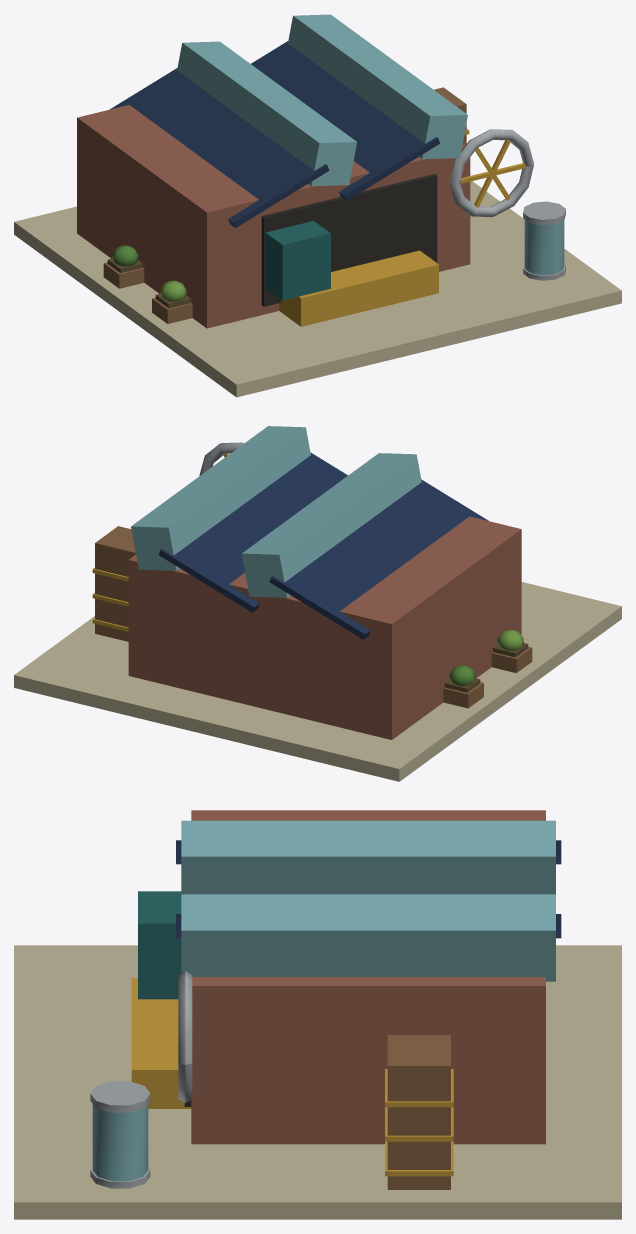
Rendered from b06-maker-workshop-v2-lod0.glb.
The picture shows the model from 3 angles, top to bottom: view 1: azimuth 30°, elevation 25°; view 2: azimuth 150°, elevation 25°; view 3: azimuth 270°, elevation 25°; orthographic projection. The views are drawn at different scales.
Parts seen in each view (by area): view 1: MESH_B06_MAKER_WORKSHOP; view 2: MESH_B06_MAKER_WORKSHOP; view 3: MESH_B06_MAKER_WORKSHOP.
Part boxes in pixels (<box>): MESH_B06_MAKER_WORKSHOP: <box>14,14,621,397</box>; MESH_B06_MAKER_WORKSHOP: <box>14,426,621,781</box>; MESH_B06_MAKER_WORKSHOP: <box>14,810,621,1219</box>.
Bounding box in the file's own units: 12 × 5.19 × 12.
